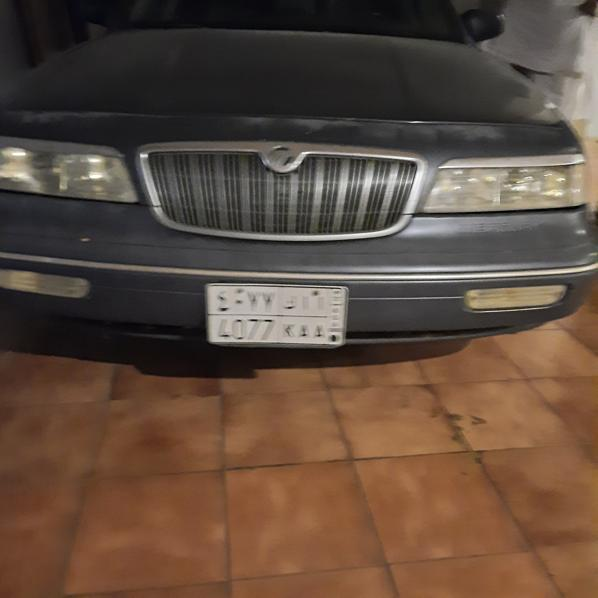numberplate: (207, 284, 347, 346)
